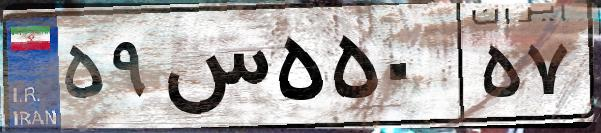0: (385, 28, 445, 110)
5: (270, 28, 330, 110), (330, 28, 385, 110), (57, 26, 110, 100), (475, 38, 525, 113)
7: (525, 38, 570, 115)
9: (110, 28, 158, 98)
س: (158, 20, 270, 120)
